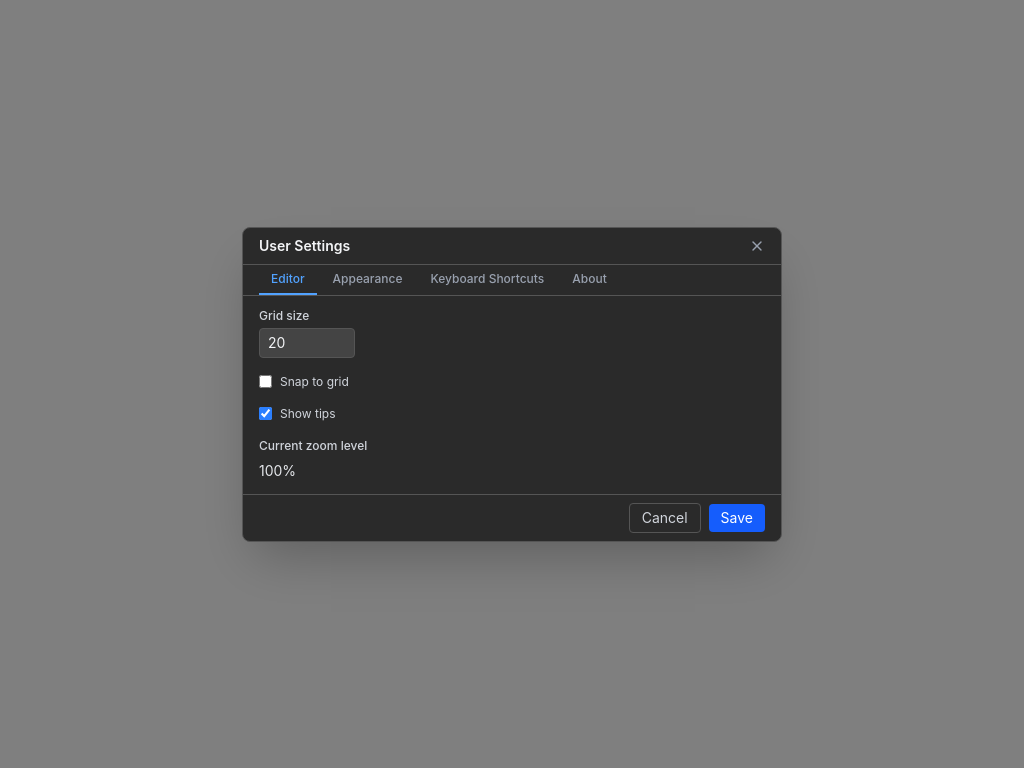
Test: UserSettingsDialog › tab switching › switches to Keyboard Shortcuts tab
The image size is (1024, 768).
Click the button "Keyboard Shortcuts" at (487, 280), box [418,264,556,294]
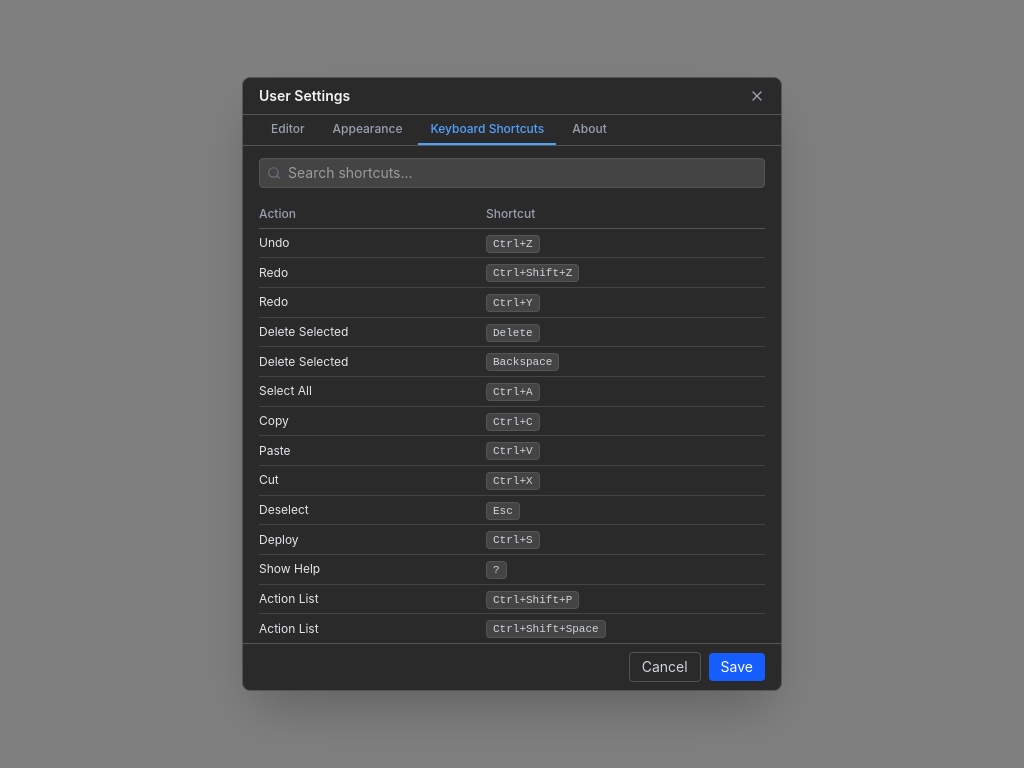
Check: the field with test id "settings-shortcut-search" is shown, box [259,158,765,188]
Check: the text "Undo" is shown, box [259,228,486,258]
